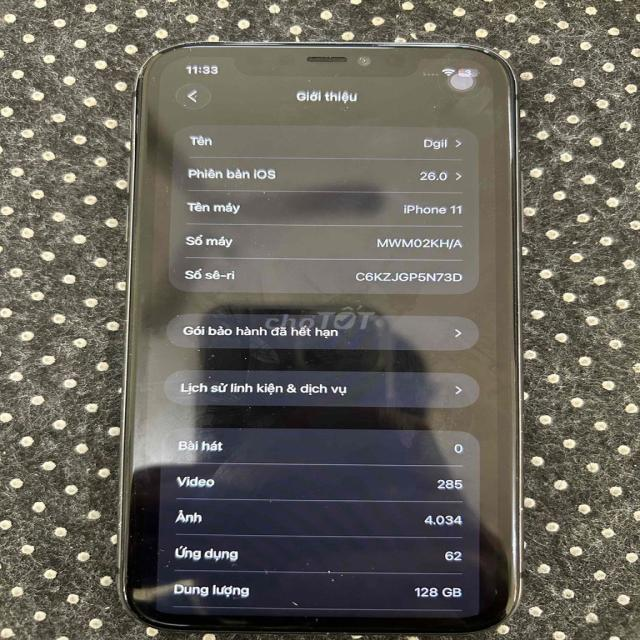gen_11: (106, 33, 527, 638)
